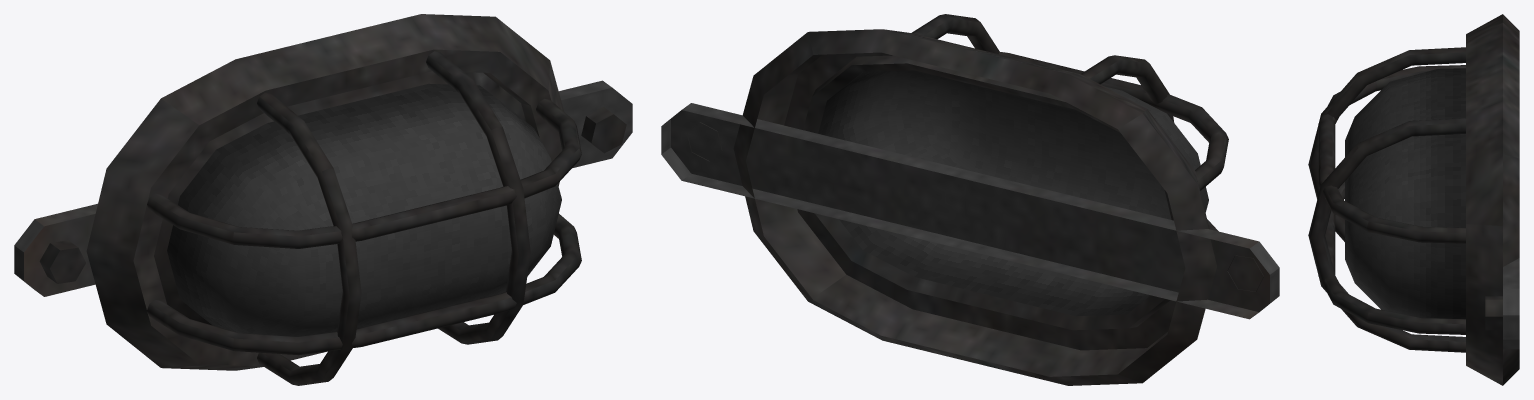
File: lamp_2_off.fbx
3 renders of one model, left to right at view 1: azimuth 30°, elevation 25°; view 2: azimuth 150°, elevation 25°; view 3: azimuth 270°, elevation 25°, orthographic. The views are drawn at different scales.
Visible parts, largest first — view 1: lamp_2_off; view 2: lamp_2_off; view 3: lamp_2_off.
Boxes of the visible parts, x1,y1,x2,y2 form: lamp_2_off: [14, 14, 632, 385]; lamp_2_off: [661, 14, 1279, 385]; lamp_2_off: [1308, 14, 1519, 385].
Size of the model in its own units: 0.36 by 0.126 by 0.176.
